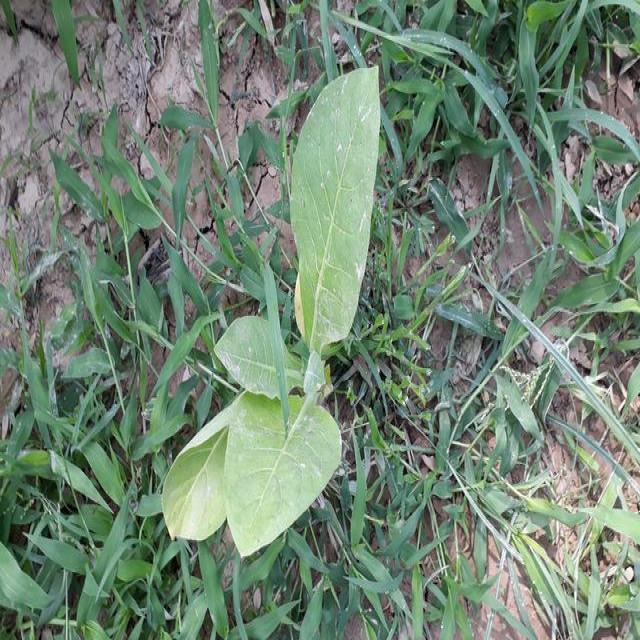crop: (160, 55, 390, 562)
